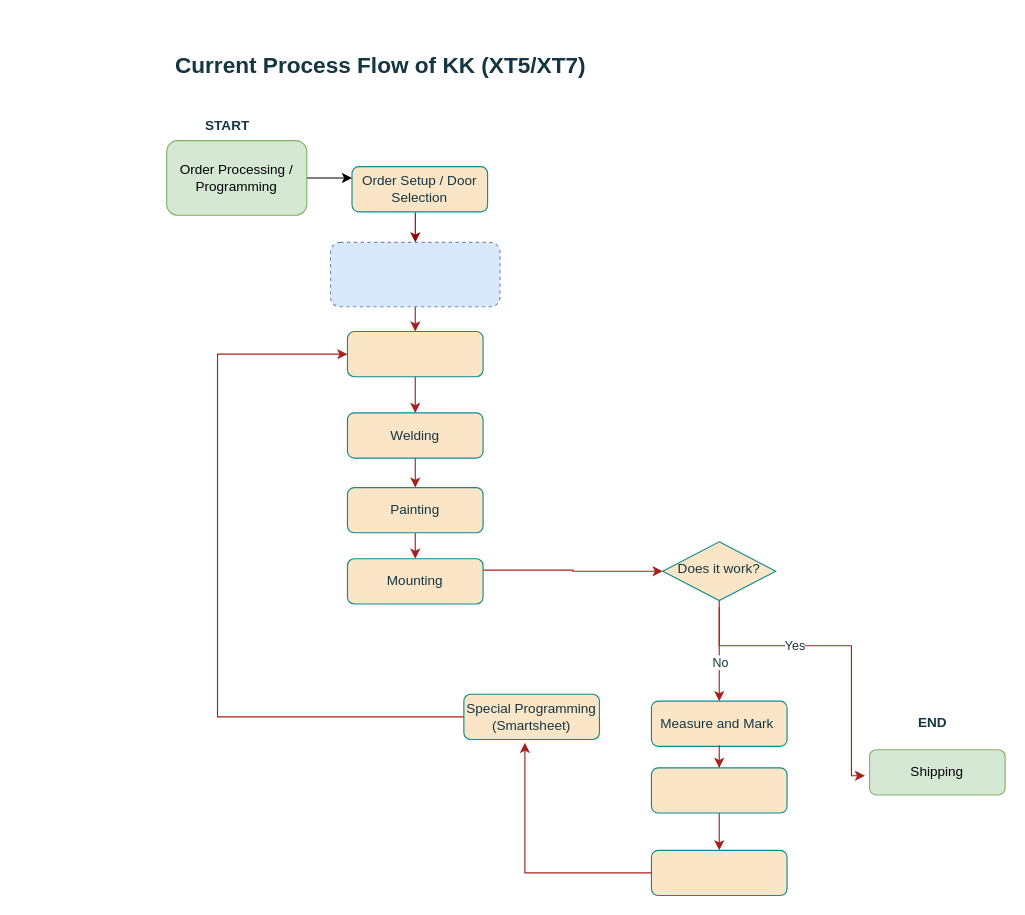
Image size: 1025x915. Some labels were removed from this diagram. Each missing label, with the box of its shape:
Current Door REWORK: (329, 241, 500, 307)
Cutting: (346, 330, 483, 377)
ECN / BOM Changes: (650, 849, 787, 896)
MD requirement: (650, 767, 787, 813)
